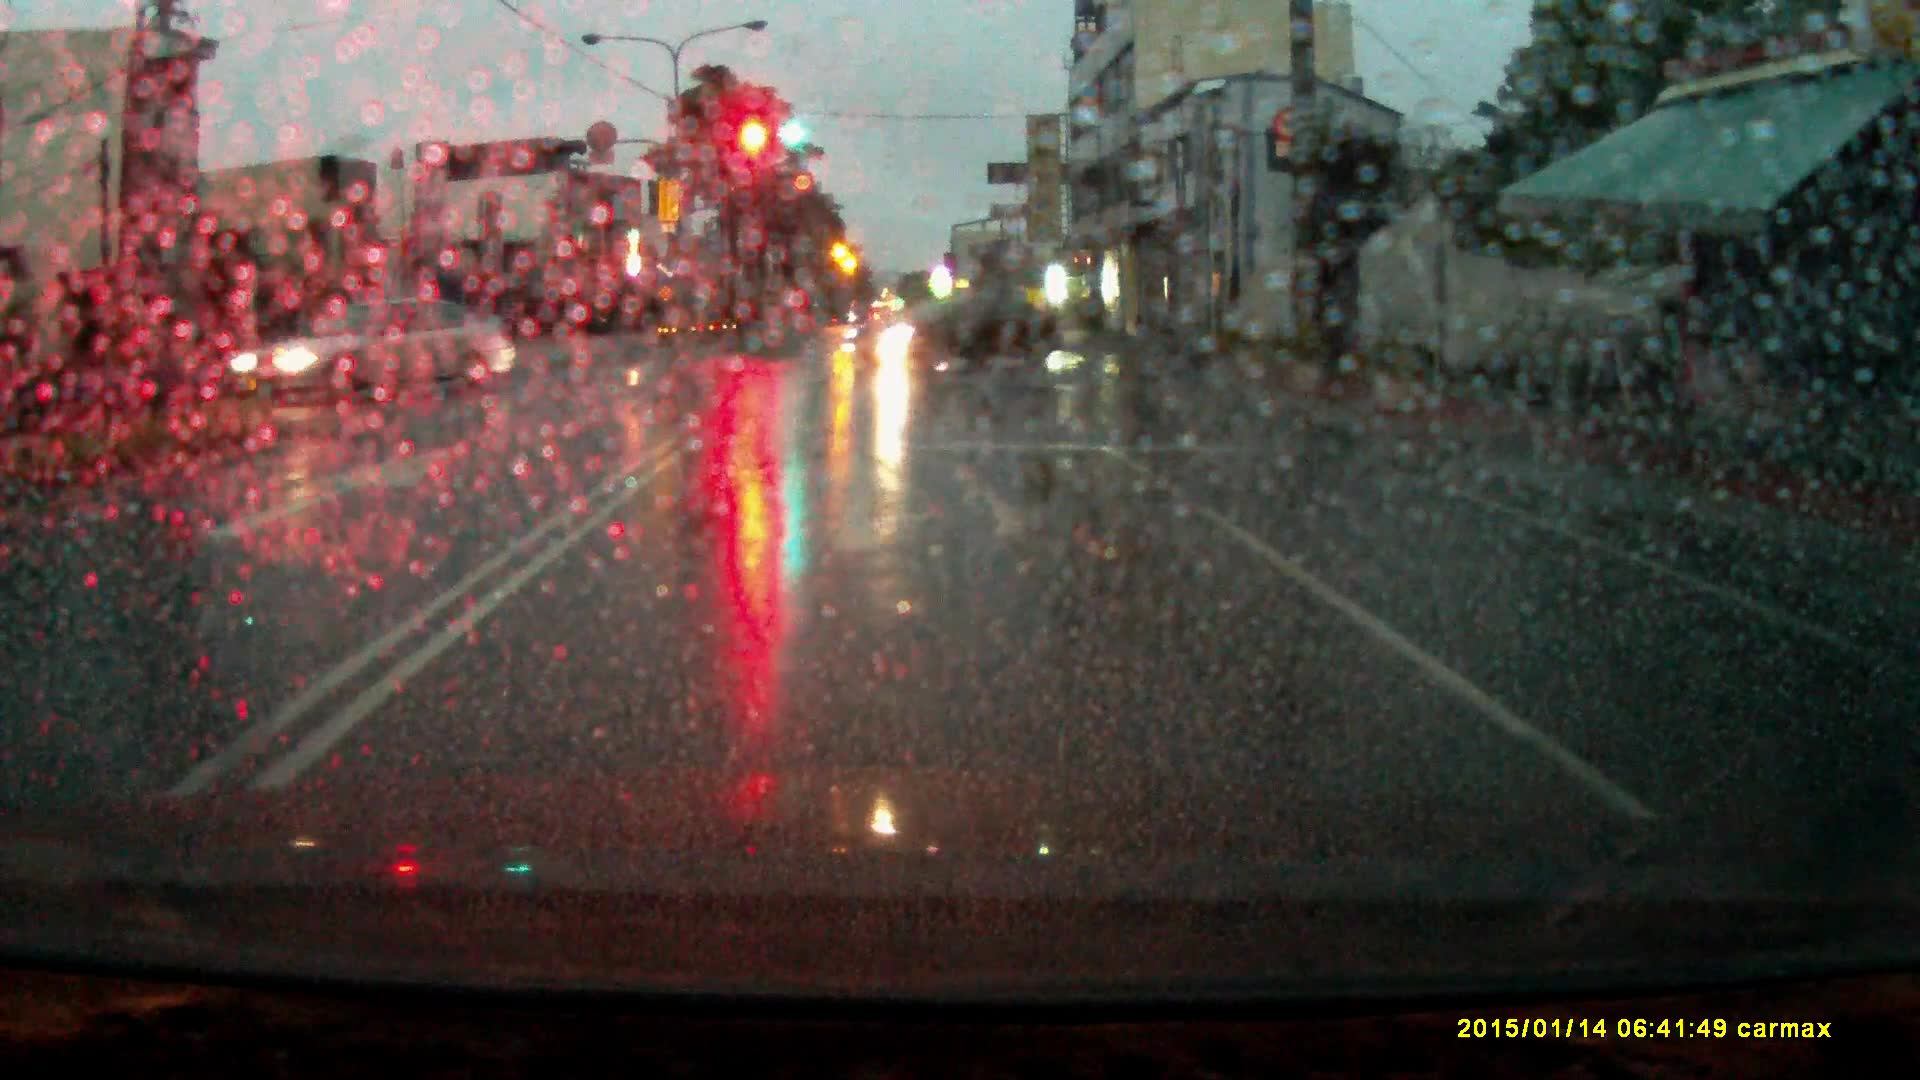vehicle: (225, 297, 522, 400), (845, 289, 1069, 373)
